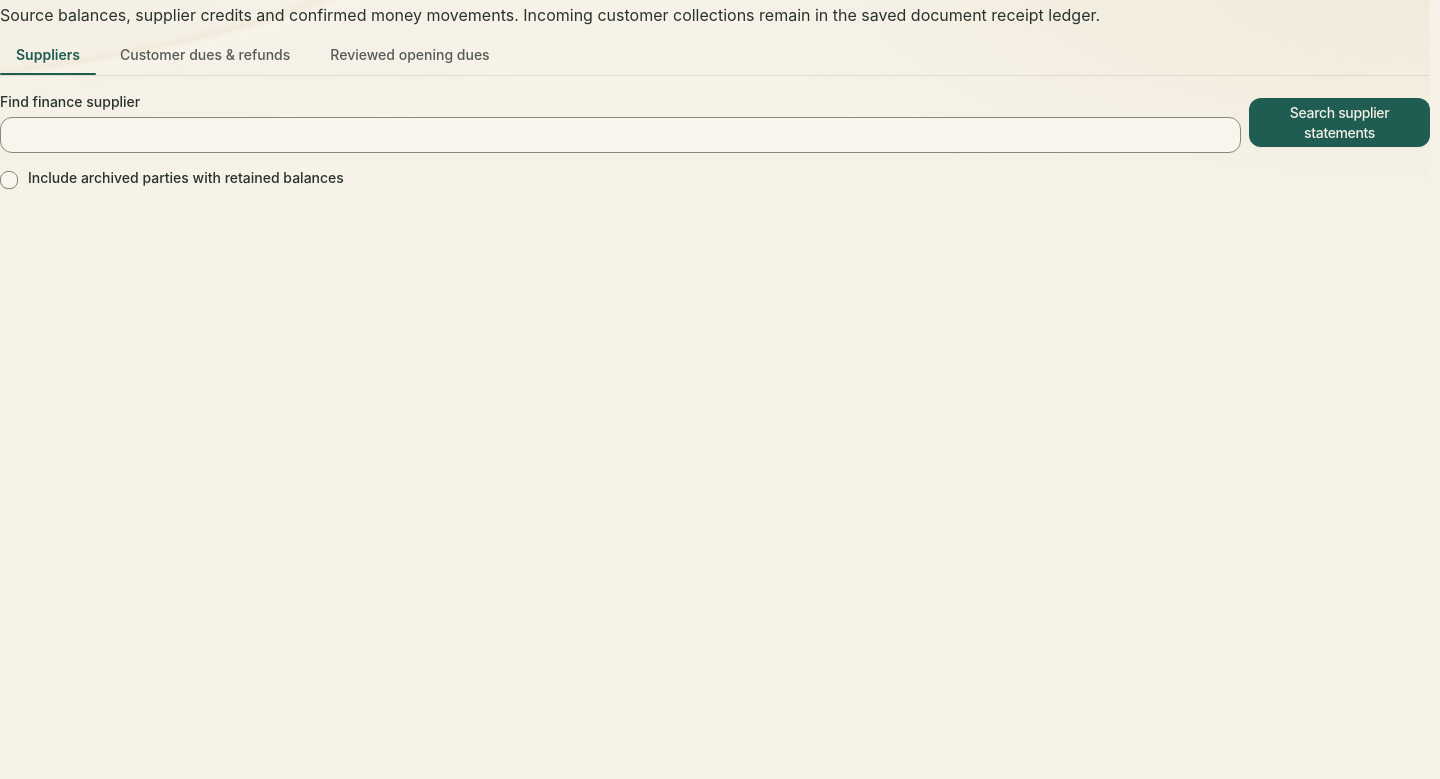
Test: rejects over-allocation within an otherwise confirmed supplier payment
The image size is (1440, 779).
Click the button "Search supplier statements": (1340, 123) [1249,98,1430,147]
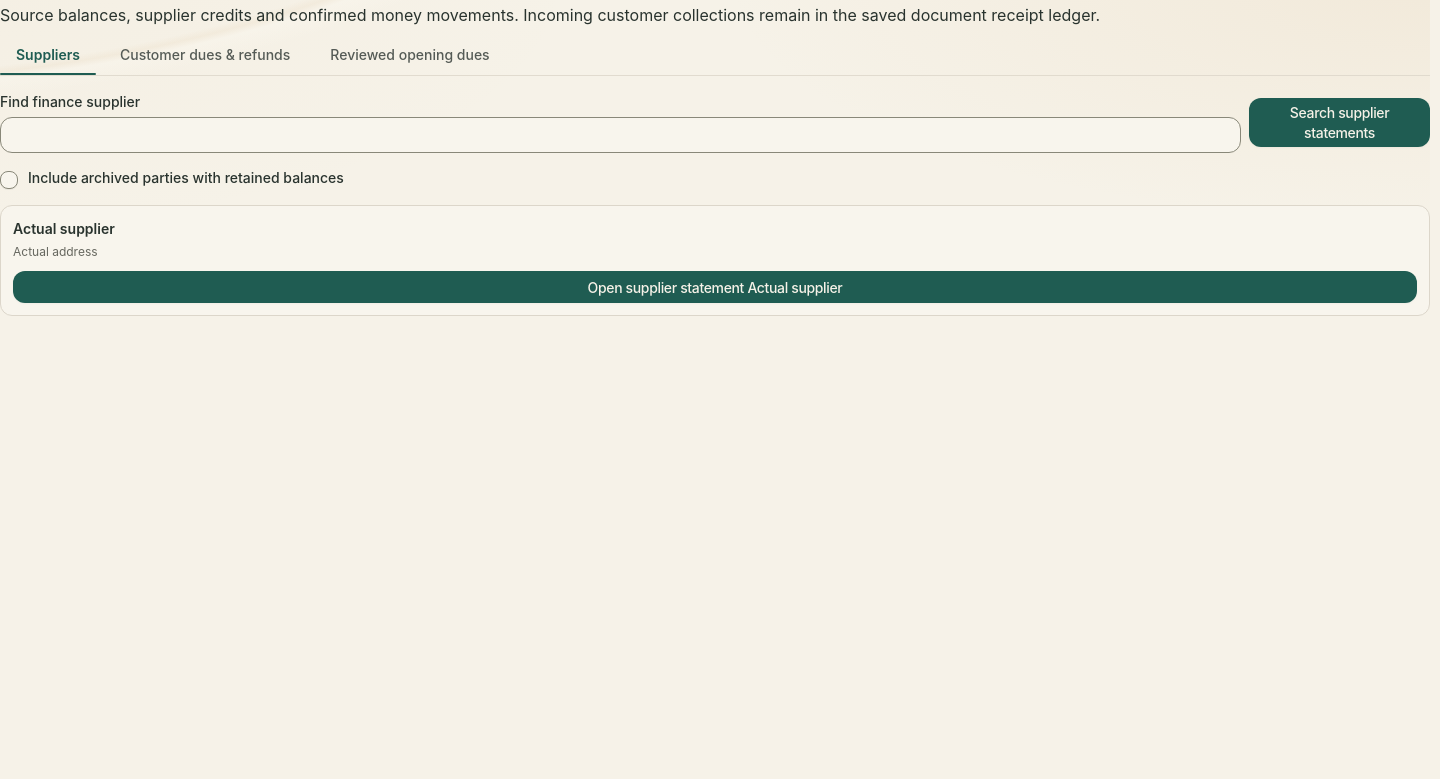
Click the button "Open supplier statement Actual supplier": (715, 287) [13,271,1417,303]
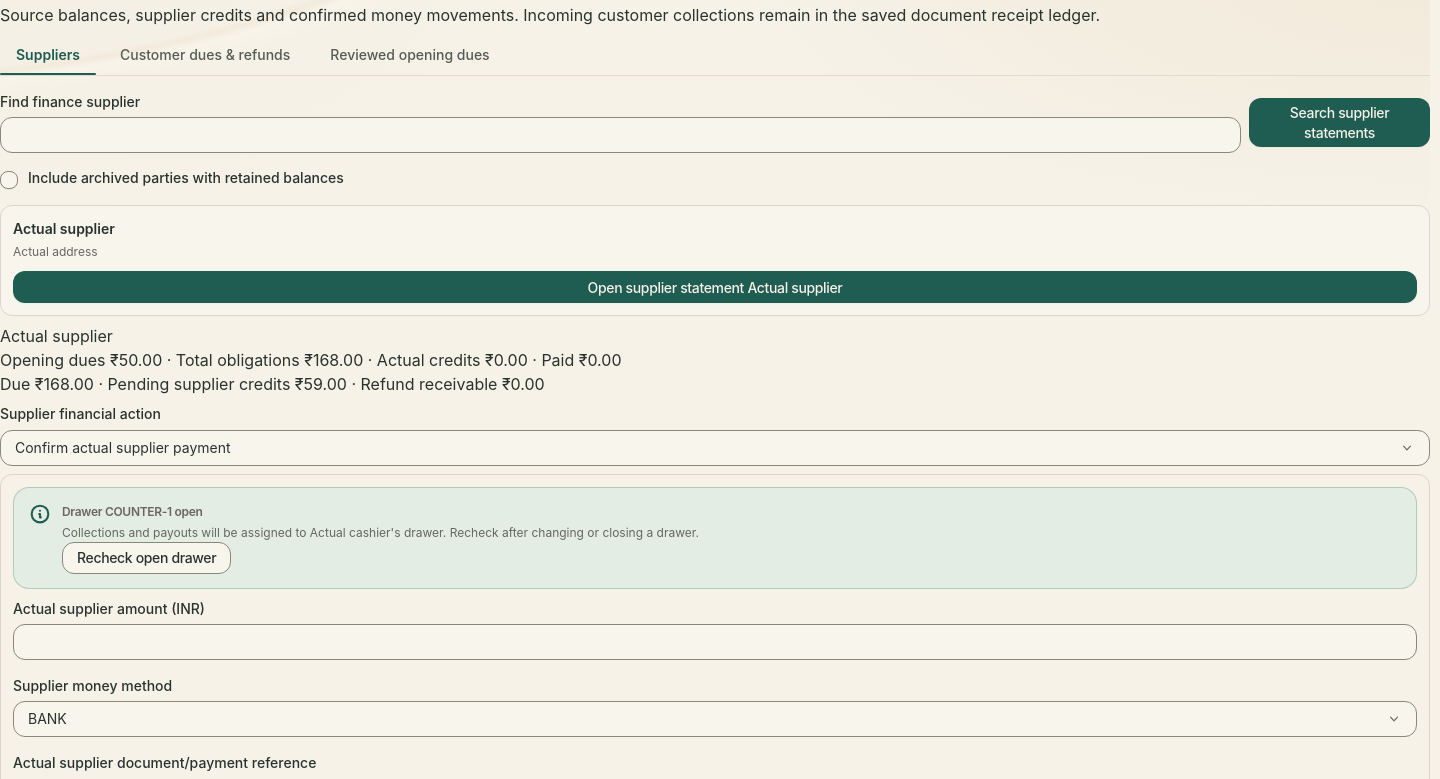
Expected: the element named "Supplier balance statement" is shown, [0,326,622,394]
In the number field labelled "Actual supplier amount (INR)": (715, 642) [13,624,1417,660], type "119"
(page scrolled)
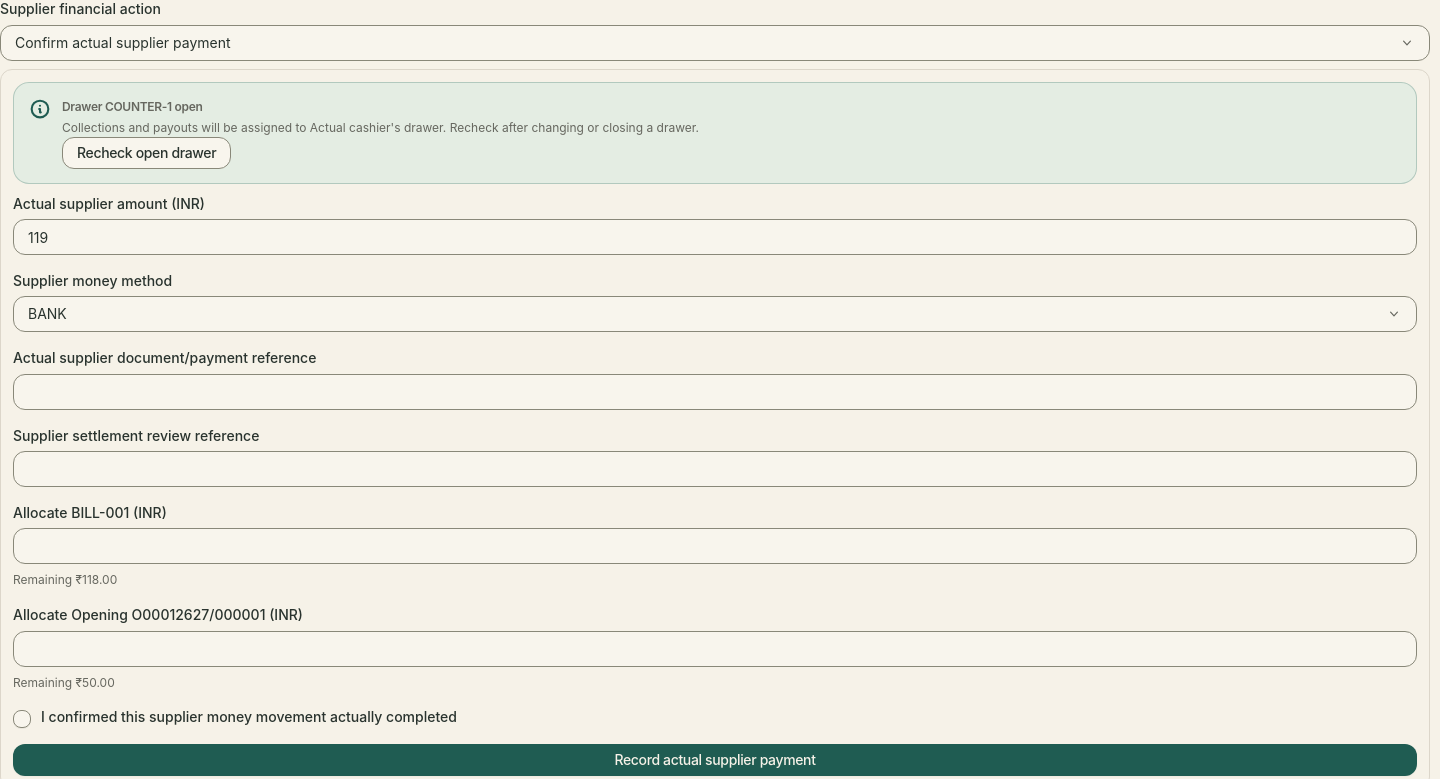
In the field labelled "Actual supplier document/payment reference": (715, 392) [13,374,1417,410], type "ACTUAL-PAYMENT-001"
In the field labelled "Supplier settlement review reference": (715, 469) [13,451,1417,487], type "Actual reviewed money movement"
Click the checkbox labelled "I confirmed this supplier money movement actually completed": (235, 718) [13,708,457,728]
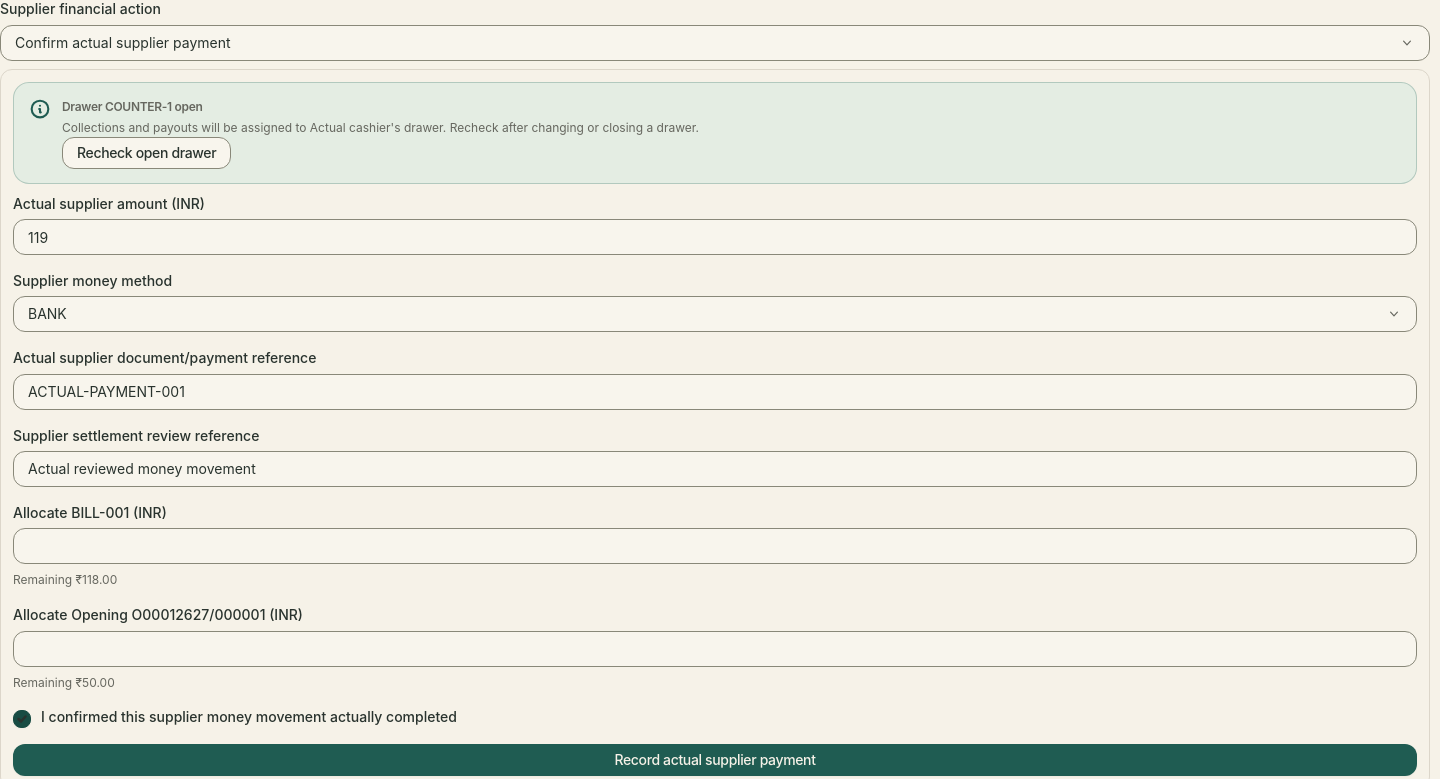
In the number field labelled "Allocate BILL-001 (INR)": (715, 546) [13,528,1417,564], type "119"
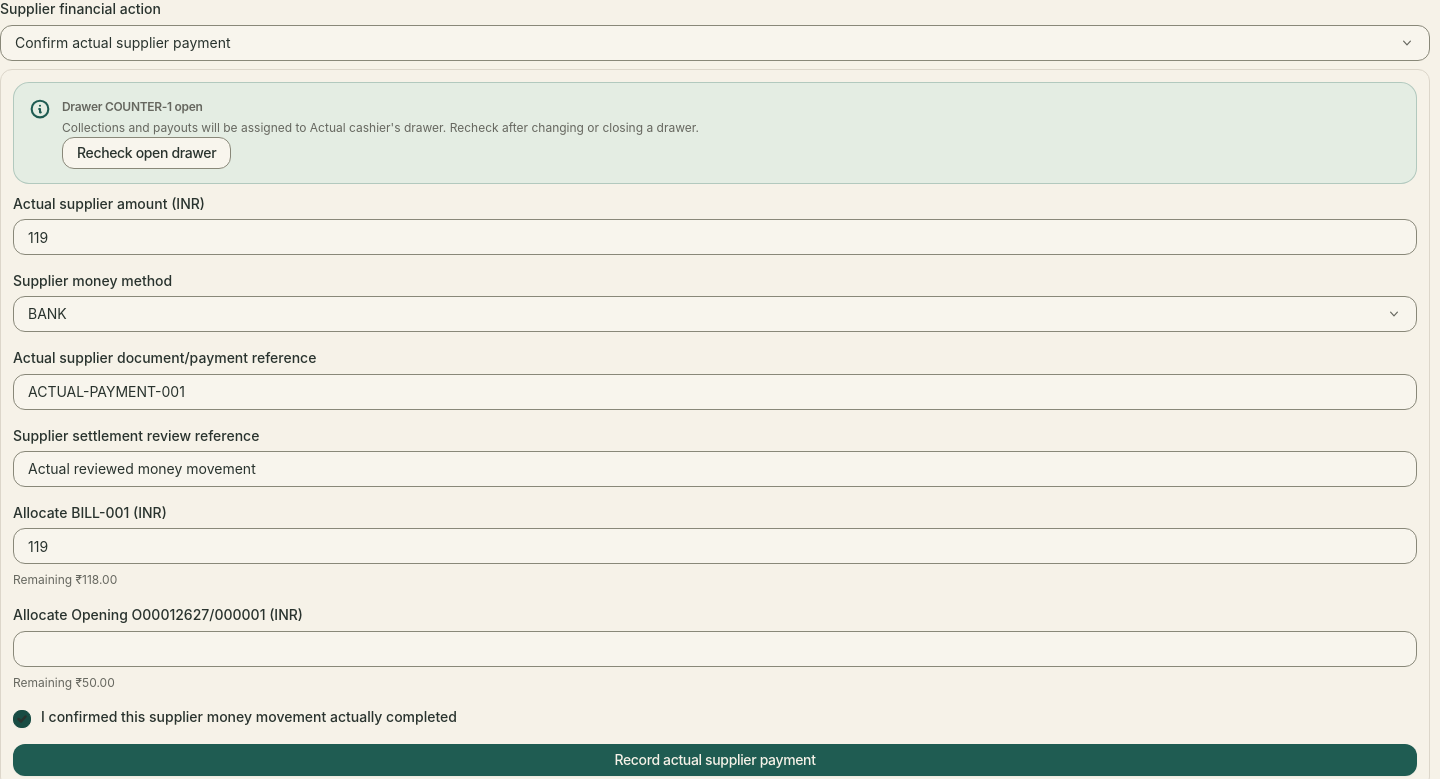
Click the button "Record actual supplier payment": (715, 760) [13,744,1417,776]
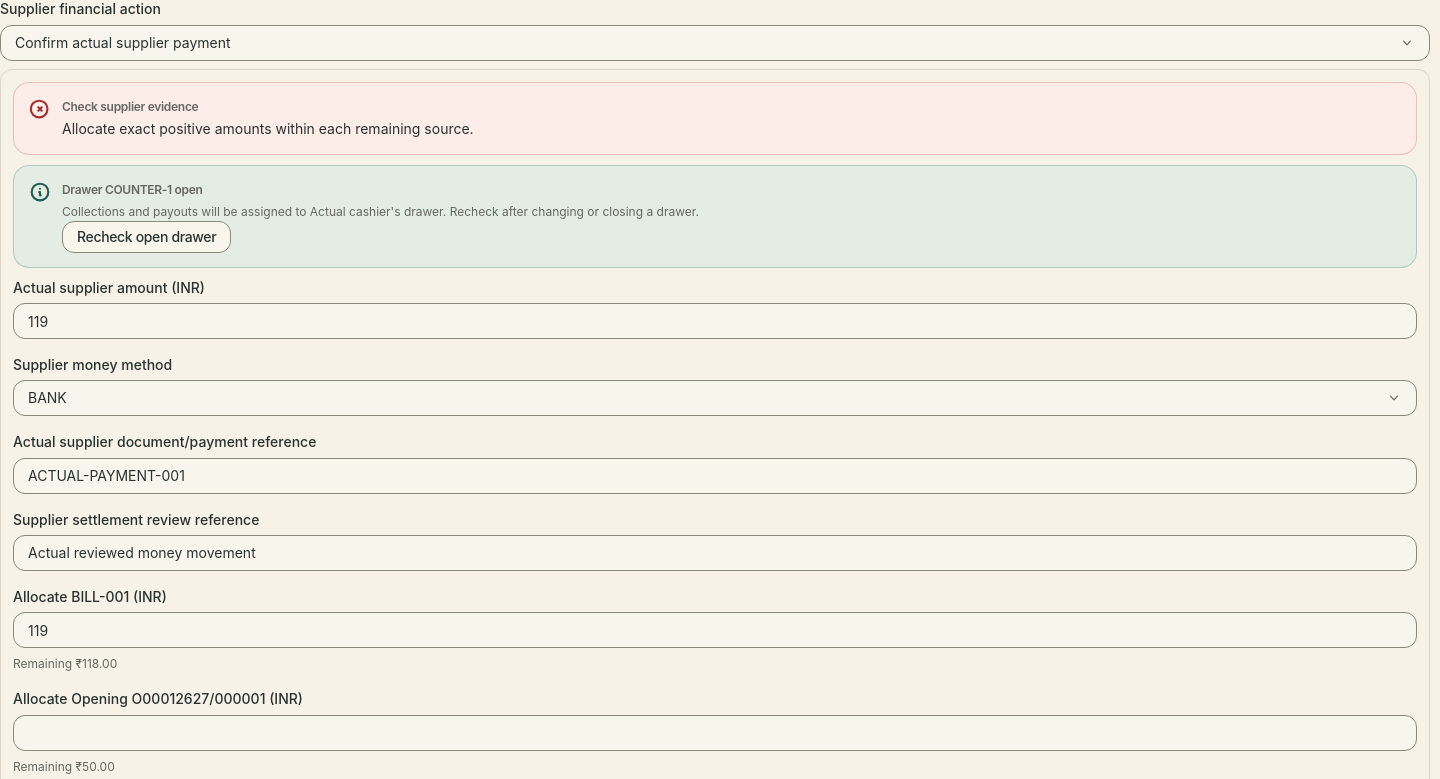
Expected: the text "within each remaining source" is shown, [62,120,474,137]
